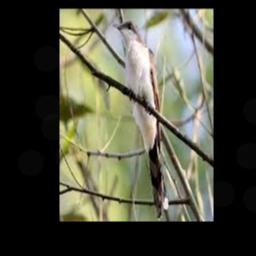Cuckoo: (112, 20, 169, 220)
